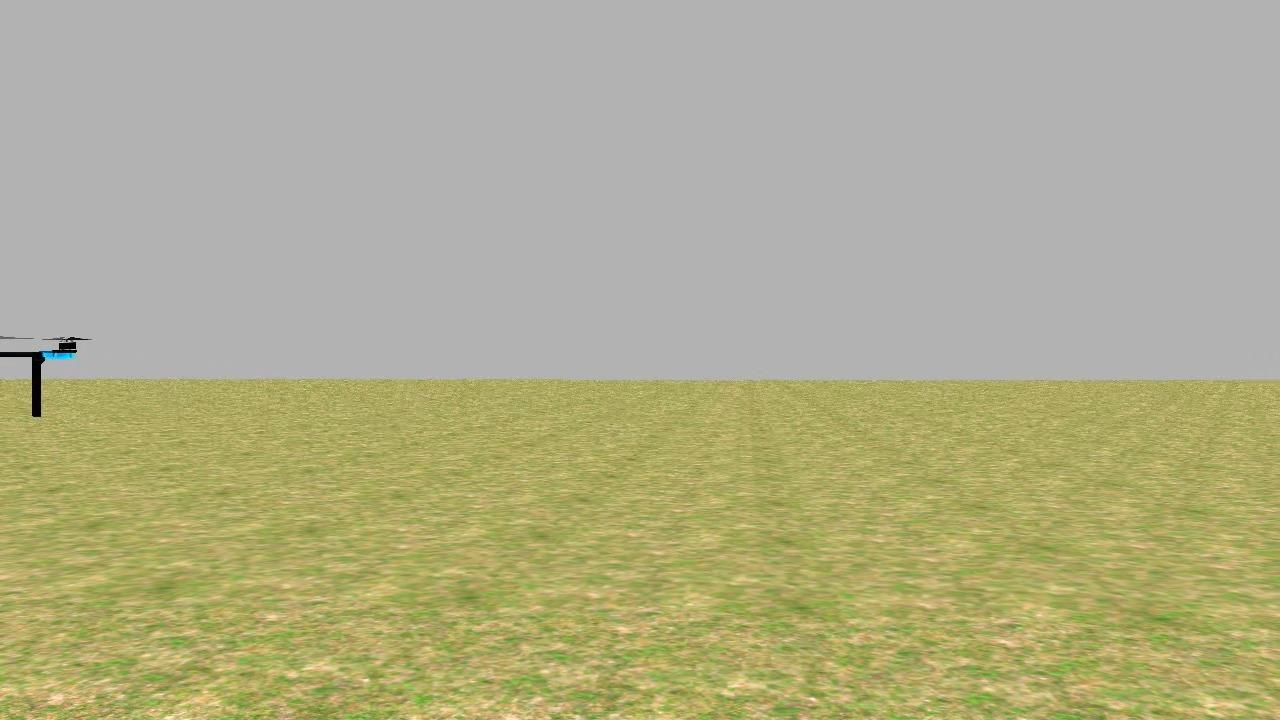UAV: (0, 308, 86, 435)
